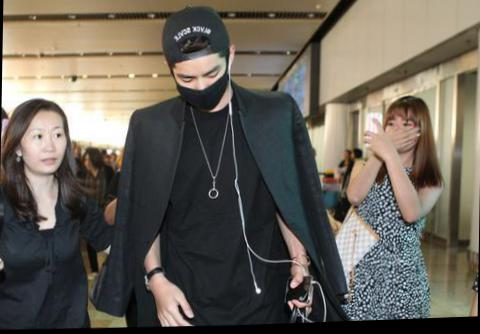NONE: (22, 118, 68, 178), (385, 117, 420, 158)
WRONG: (176, 55, 231, 115)
